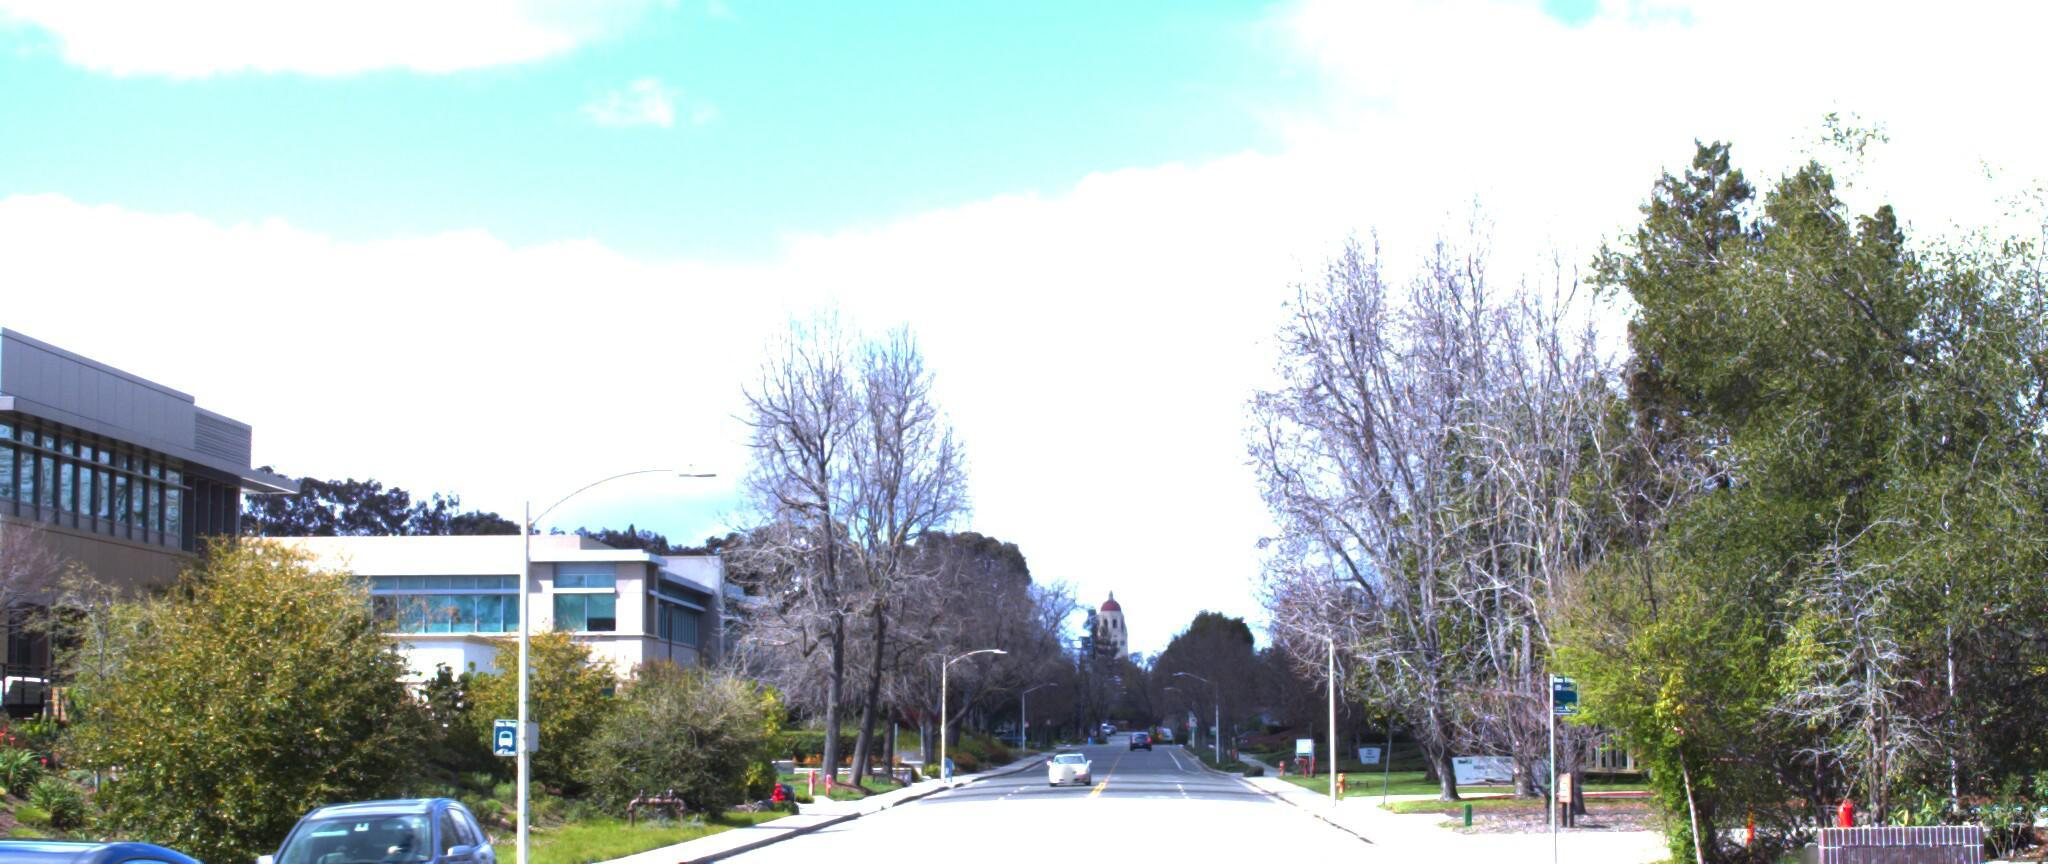car: (0, 764, 411, 864), (216, 778, 522, 864)
